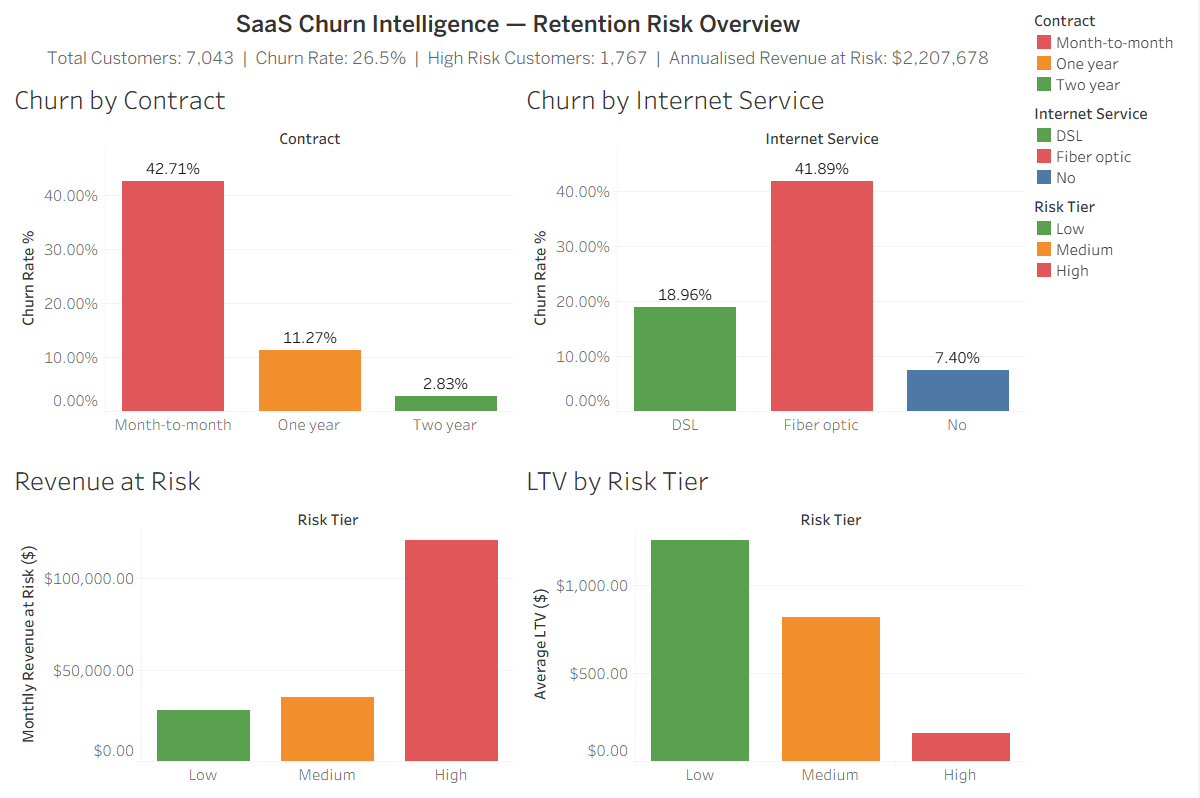

What the dashboard file says about the page in this screenshot:
{"tool":"tableau","page":{"name":"Executive Overview","canvas":[1200,800],"ordinal":1},"visuals":[{"type":"title","box":[8,8,1184,43]},{"type":"text","box":[8,51,1184,78]},{"type":"worksheet","title":"Churn by Contract","mark":"Automatic","rows":["event"],"cols":["Contract"],"box":[8,129,592,338.7]},{"type":"worksheet","title":"Churn by Internet Service","mark":"Automatic","rows":["event"],"cols":["InternetService"],"box":[600,129,592,338.7]},{"type":"worksheet","title":"Revenue at Risk","mark":"Automatic","rows":["revenue_at_risk"],"cols":["risk_tier"],"box":[8,467.7,592,324.3]},{"type":"worksheet","title":"LTV by Risk Tier","mark":"Automatic","rows":["ltv_estimate"],"cols":["risk_tier"],"box":[600,467.7,592,324.3]}]}

Visuals, with their boxes in screenshot pixels (x1, y1, x2, y2), scaled from the page's 1200x800 canvas onto the 1200x798 screenshot:
title: x1=8, y1=8, x2=1192, y2=51
text: x1=8, y1=51, x2=1192, y2=129
"Churn by Contract" worksheet: x1=8, y1=129, x2=600, y2=467
"Churn by Internet Service" worksheet: x1=600, y1=129, x2=1192, y2=467
"Revenue at Risk" worksheet: x1=8, y1=467, x2=600, y2=790
"LTV by Risk Tier" worksheet: x1=600, y1=467, x2=1192, y2=790
